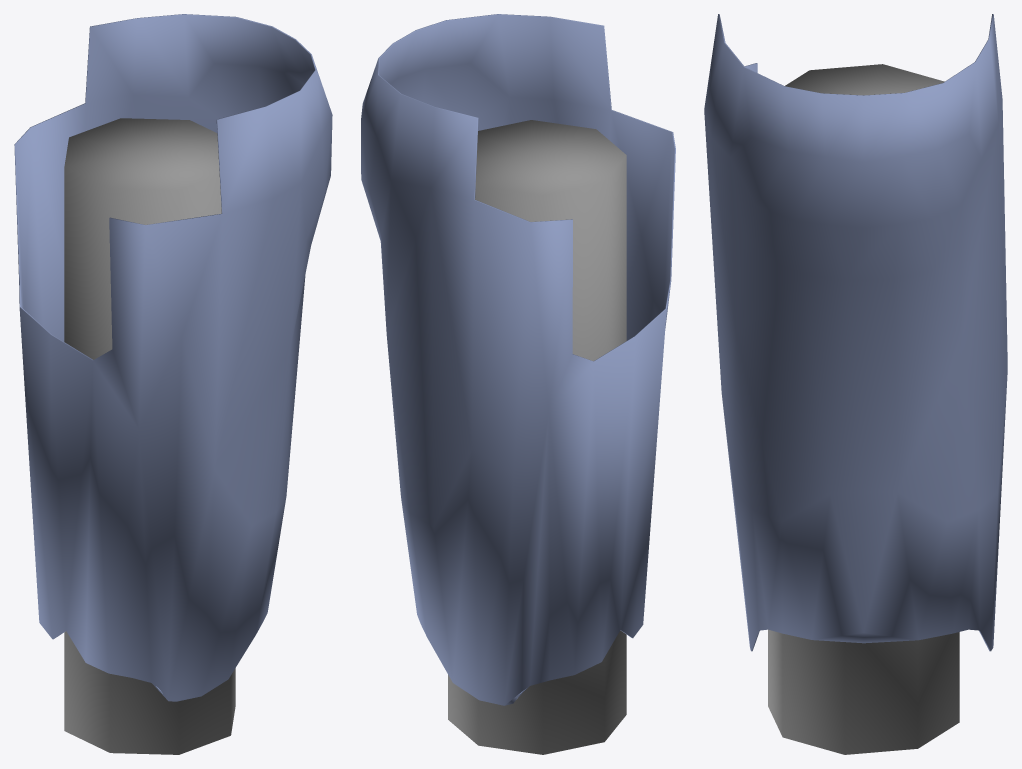
The model's file is icub_simple_r_shank.dae.
3 renders of one model, left to right at view 1: azimuth 30°, elevation 25°; view 2: azimuth 150°, elevation 25°; view 3: azimuth 270°, elevation 25°, orthographic. The views are drawn at different scales.
Visible parts, largest first — view 1: r_shank_mesh; view 2: r_shank_mesh; view 3: r_shank_mesh.
Boxes of the visible parts, left/top/right/bottom form: r_shank_mesh: left=14, top=14, right=332, bottom=754; r_shank_mesh: left=361, top=14, right=675, bottom=754; r_shank_mesh: left=704, top=14, right=1007, bottom=754.
Size of the model in its own units: 0.1035 by 0.2446 by 0.0961.
